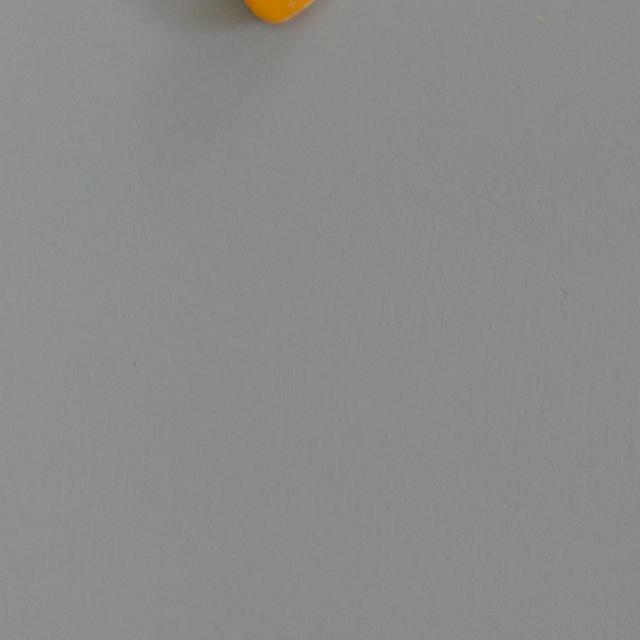dañado: (220, 0, 343, 32)
